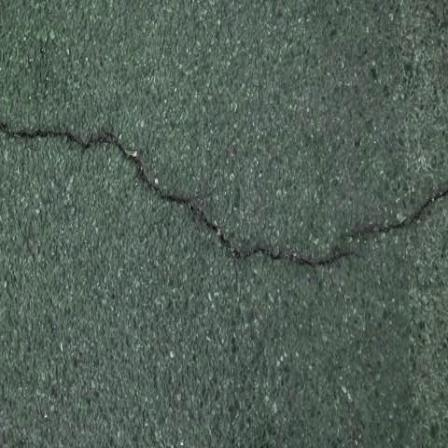crack: (0, 86, 373, 315), (341, 188, 448, 248)
